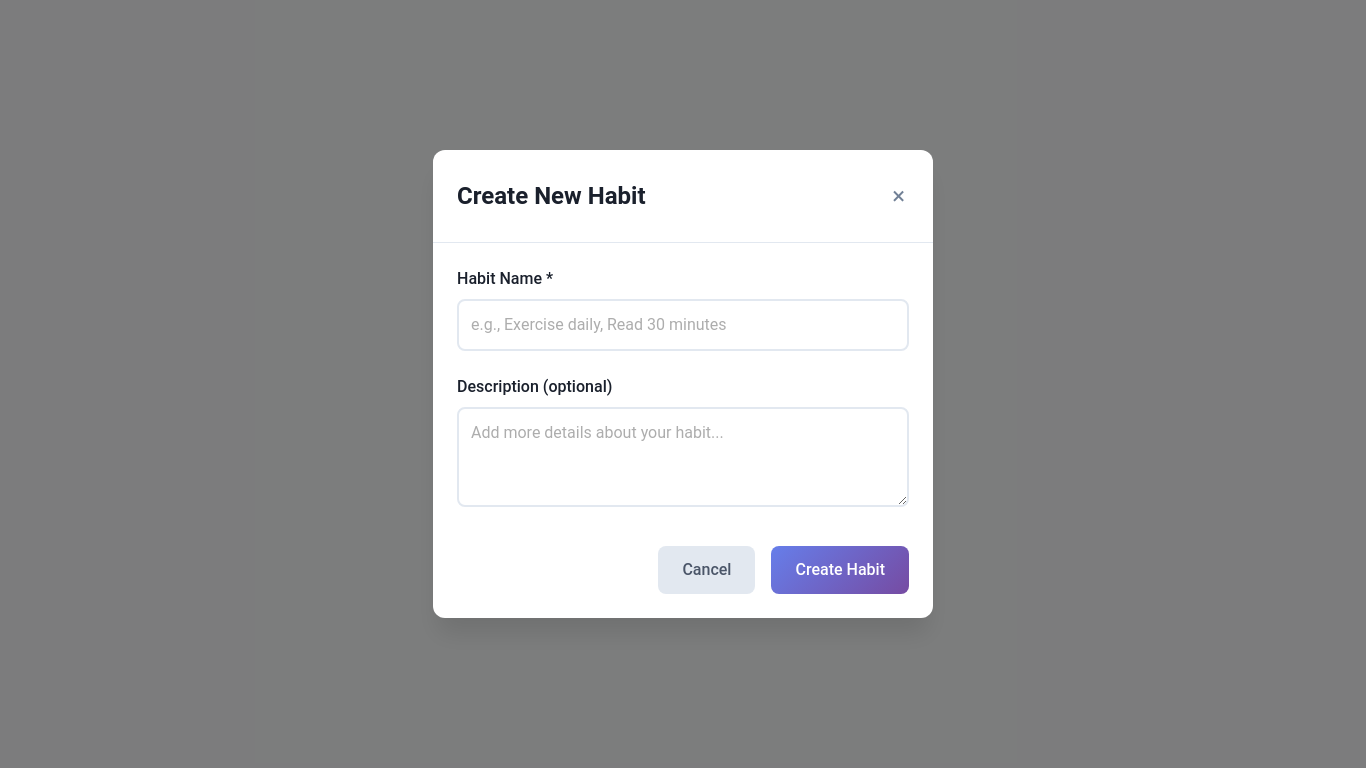
Test: CreateHabitForm › Form validation › shows error when submitting empty form
Click the button "Create Habit" at coordinates (840, 570), box [772,546,909,594]
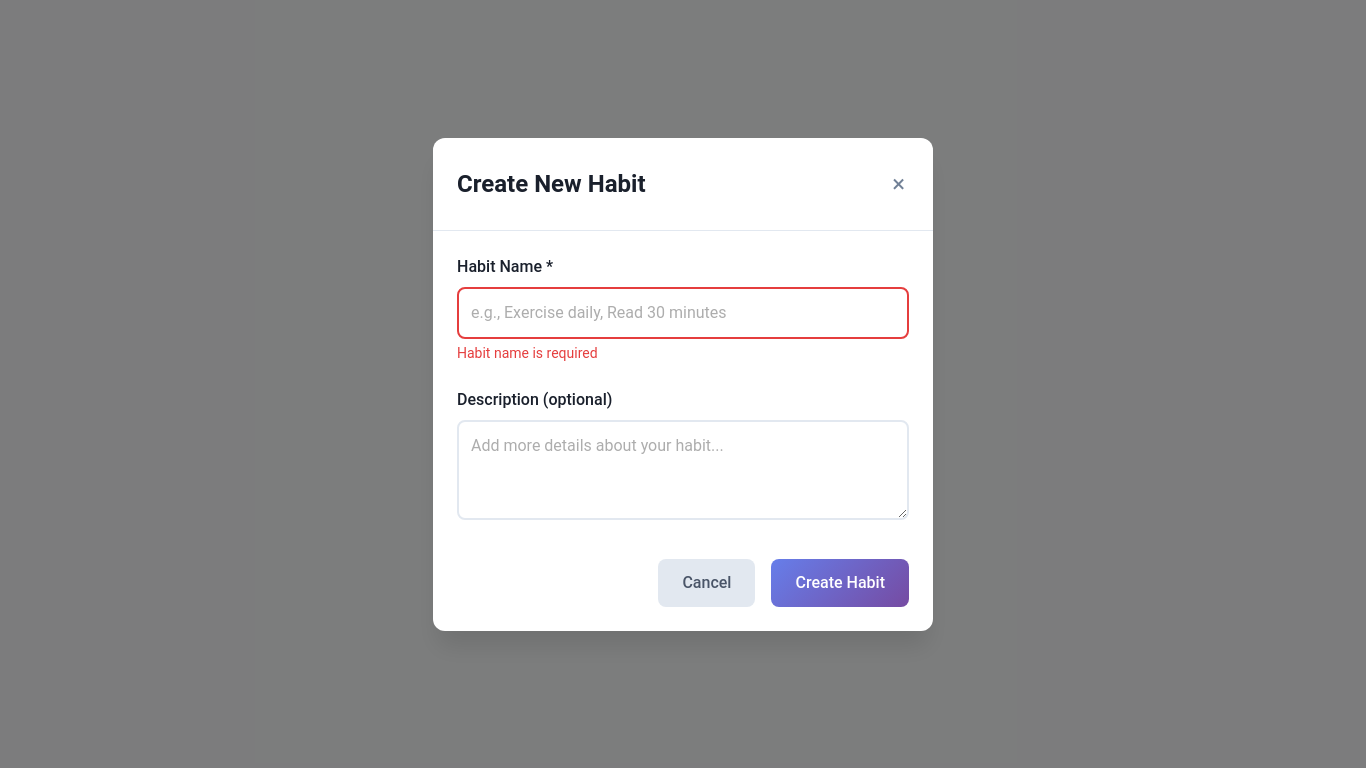
Check: the text "Habit name is required" is shown, box [457,344,598,360]
